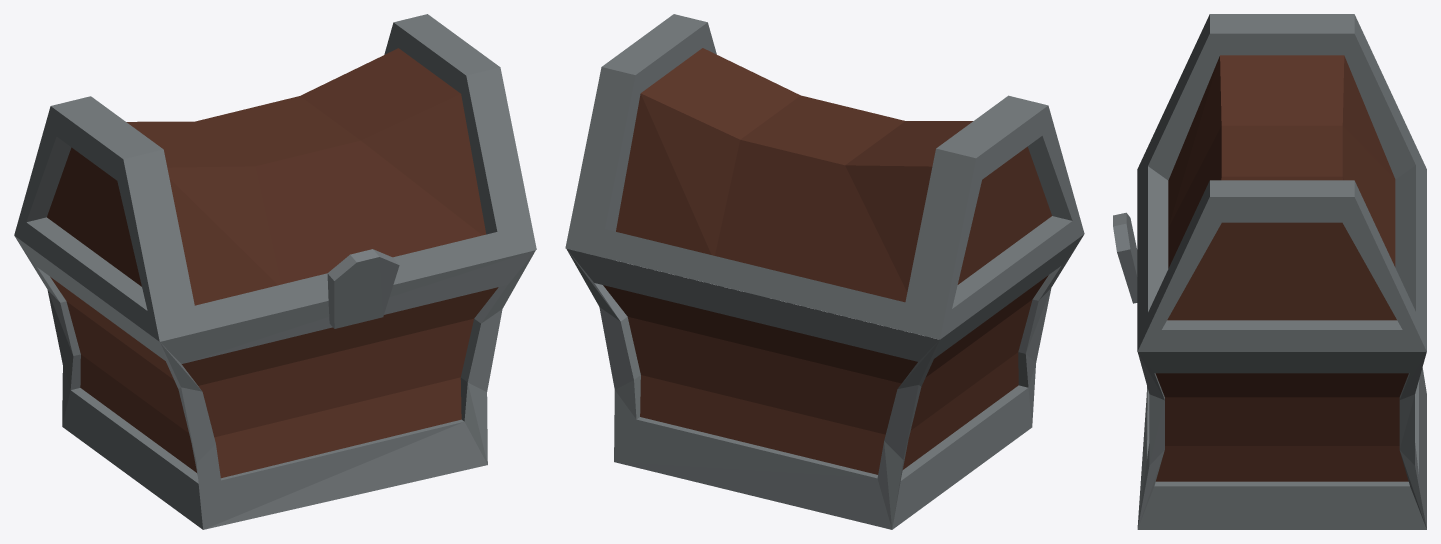
File: simple_chest_closed.fbx
3 views of the same model, side by side, from view 1: azimuth 30°, elevation 25°; view 2: azimuth 150°, elevation 25°; view 3: azimuth 270°, elevation 25° (orthographic).
Visible parts, largest first — view 1: simple_chest_closed; view 2: simple_chest_closed; view 3: simple_chest_closed.
Boxes of the visible parts, bbox=[...] form: simple_chest_closed: bbox=[14, 14, 536, 529]; simple_chest_closed: bbox=[565, 14, 1084, 529]; simple_chest_closed: bbox=[1113, 14, 1426, 529].
Bounding box in the file's own units: 7.99 × 7.27 × 5.8.
